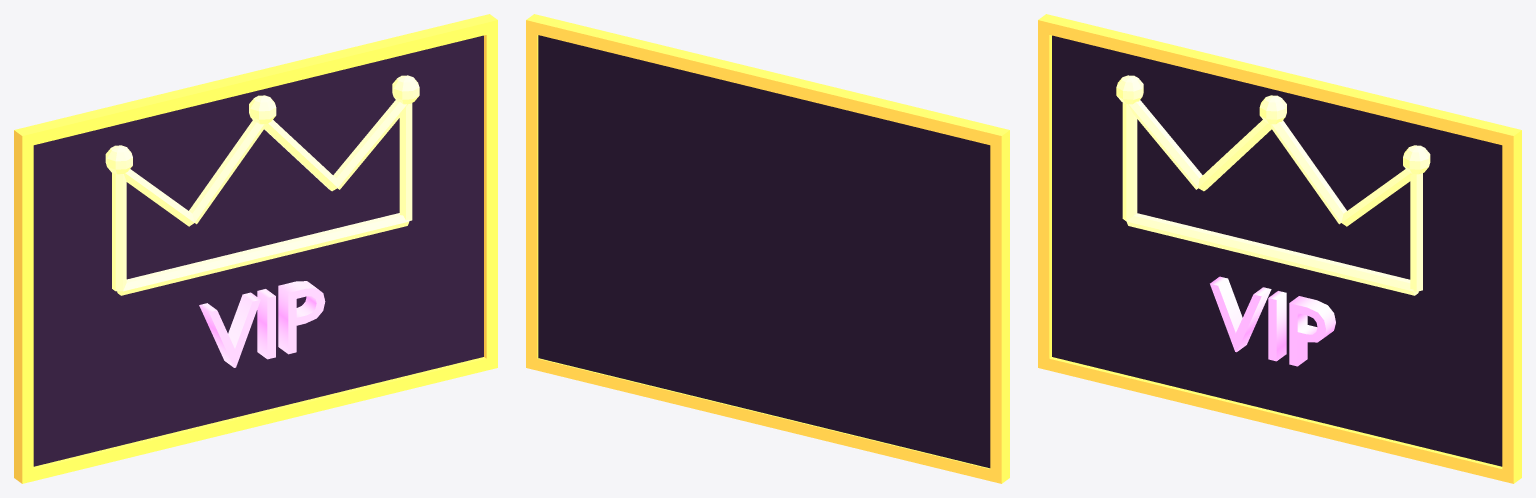
The model's file is lux_neon_crown.glb.
3 views of the same model, side by side, from view 1: azimuth 30°, elevation 25°; view 2: azimuth 150°, elevation 25°; view 3: azimuth 330°, elevation 25° (orthographic).
Visible parts, largest first — view 1: lux_neon_crown; view 2: lux_neon_crown; view 3: lux_neon_crown.
Part boxes in pixels (x1,y1,x2,y2): lux_neon_crown: (14, 14, 497, 483); lux_neon_crown: (526, 14, 1009, 483); lux_neon_crown: (1038, 14, 1521, 483).
Size of the model in its own units: 1.66 by 1.16 by 0.1078.
